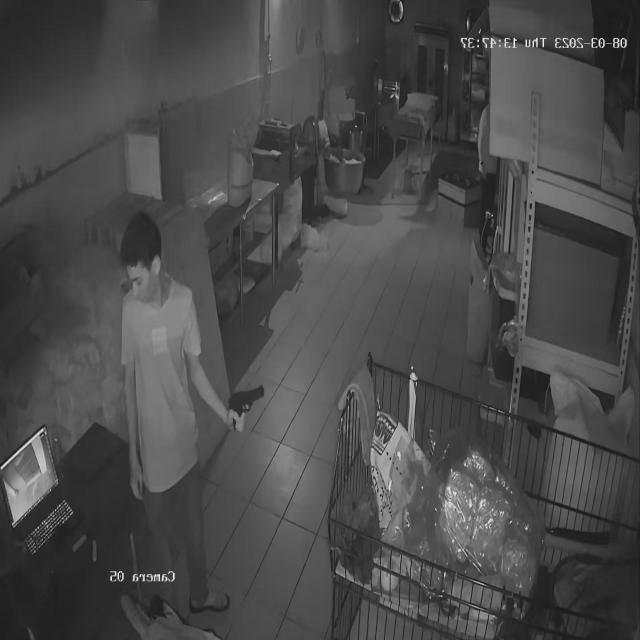Gun: (221, 380, 283, 441)
